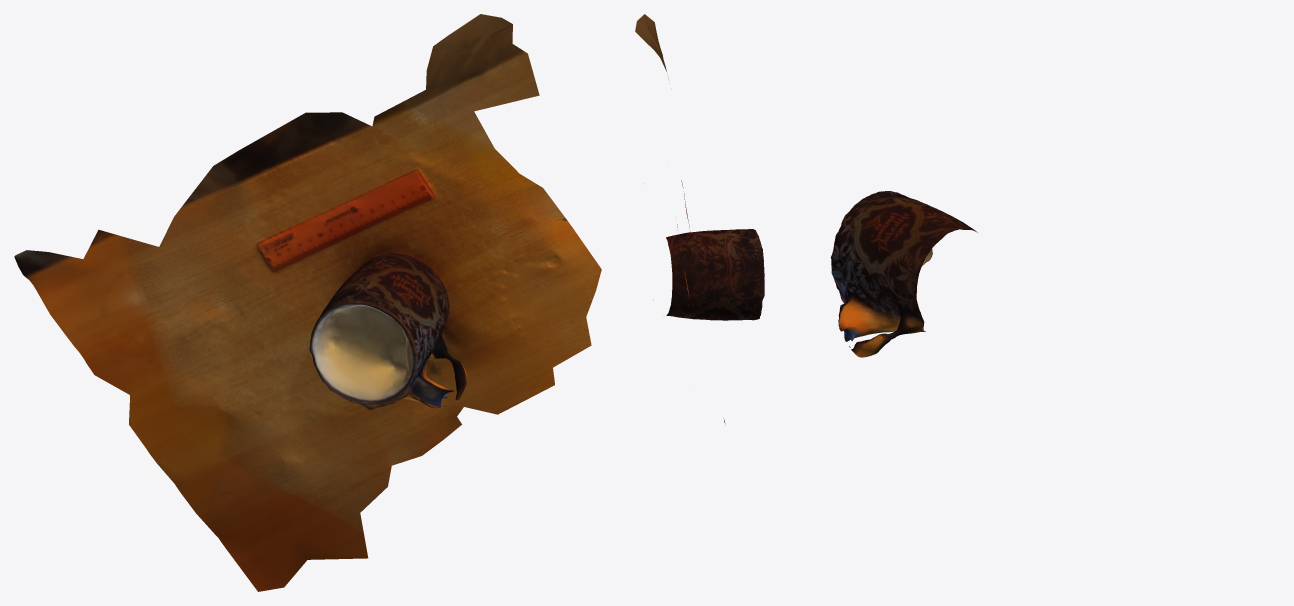
Rendered from model15_full.glb.
The picture shows the model from 3 angles, left to right: view 1: azimuth 30°, elevation 25°; view 2: azimuth 150°, elevation 25°; view 3: azimuth 270°, elevation 25°; orthographic projection. The views are drawn at different scales.
Bounding box in the file's own units: 7.37 × 12.4 × 8.47.
Materials: 1 (1 with a texture image).
